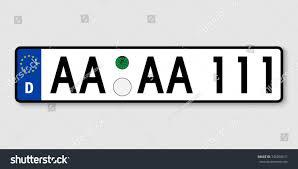1: (208, 54, 230, 94), (233, 55, 254, 94), (258, 54, 276, 95)
A: (137, 54, 166, 95), (49, 54, 77, 95), (80, 54, 107, 96), (166, 55, 193, 94)
